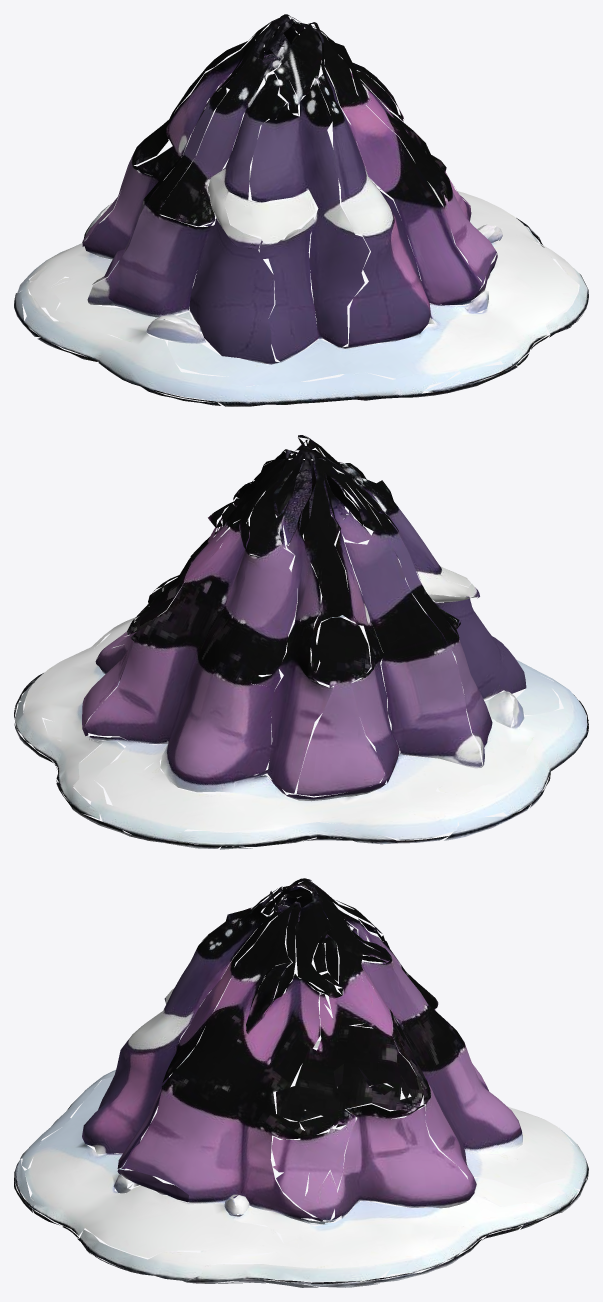
The model's file is dag_zirve.glb.
3 views of the same model, one above another, from view 1: azimuth 30°, elevation 25°; view 2: azimuth 150°, elevation 25°; view 3: azimuth 270°, elevation 25° (orthographic). The views are drawn at different scales.
Parts seen in each view (by area): view 1: geometry_0; view 2: geometry_0; view 3: geometry_0.
Part boxes in pixels (x1,y1,x2,y2): geometry_0: [14, 14, 588, 406]; geometry_0: [14, 435, 588, 849]; geometry_0: [14, 878, 588, 1287].
Size of the model in its own units: 0.9835 by 0.547 by 0.9991.
1 material, 1 textured.
